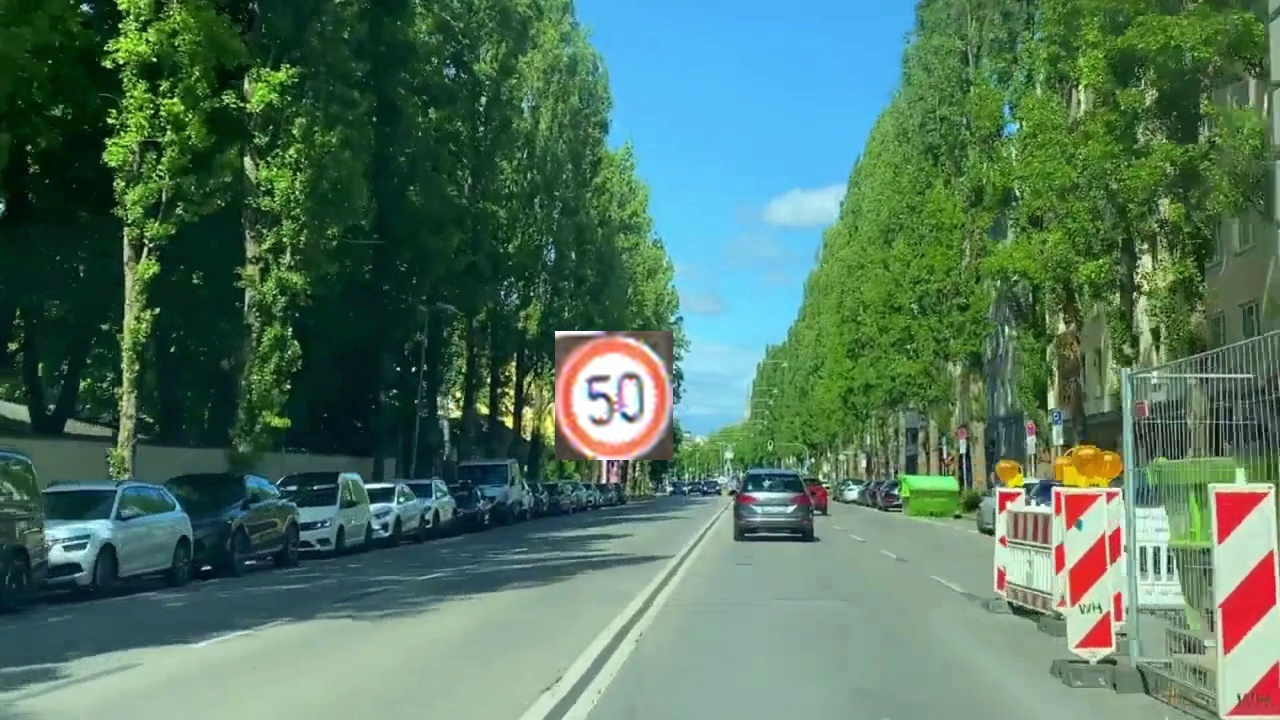Speed 50: (555, 331, 673, 460)
